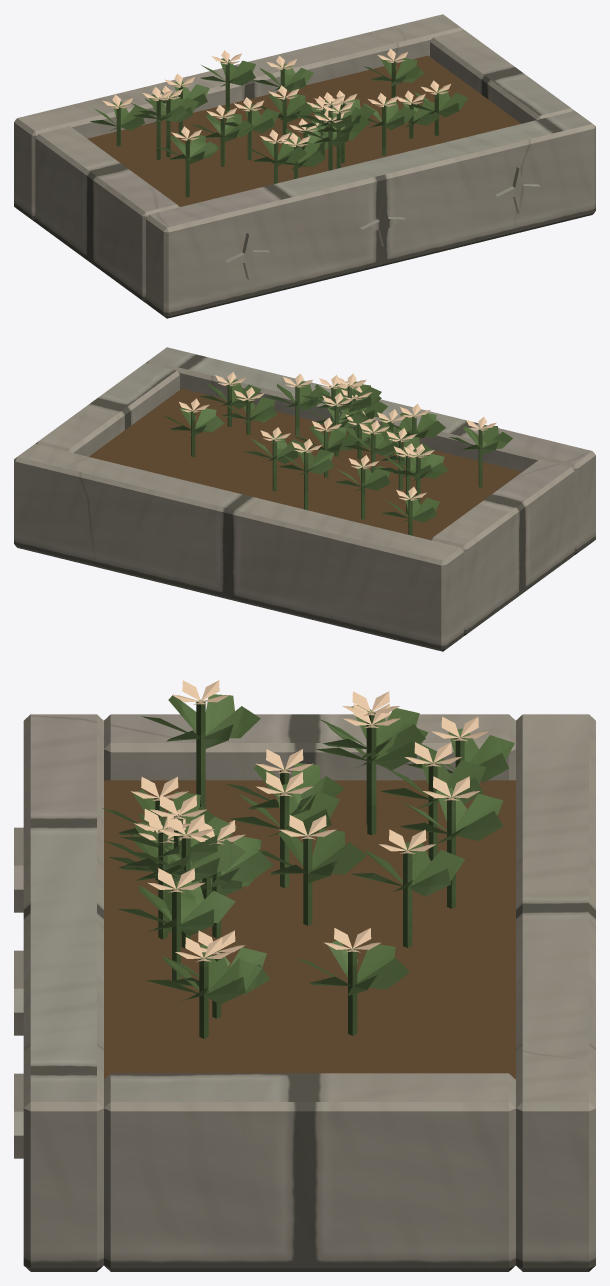
Rendered from Furn_FlowerBed2.fbx.
3 renders of one model, top to bottom at view 1: azimuth 30°, elevation 25°; view 2: azimuth 150°, elevation 25°; view 3: azimuth 270°, elevation 25°, orthographic. The views are drawn at different scales.
Visible parts, largest first — view 1: Furn_FlowerBed2_Mesh; view 2: Furn_FlowerBed2_Mesh; view 3: Furn_FlowerBed2_Mesh.
Boxes of the visible parts, x1,y1,x2,y2 form: Furn_FlowerBed2_Mesh: (14,14,595,318); Furn_FlowerBed2_Mesh: (14,347,595,651); Furn_FlowerBed2_Mesh: (14,680,595,1271).
Bounding box in the file's own units: 1.6 × 0.5 × 1.
4 materials, 2 textured.
